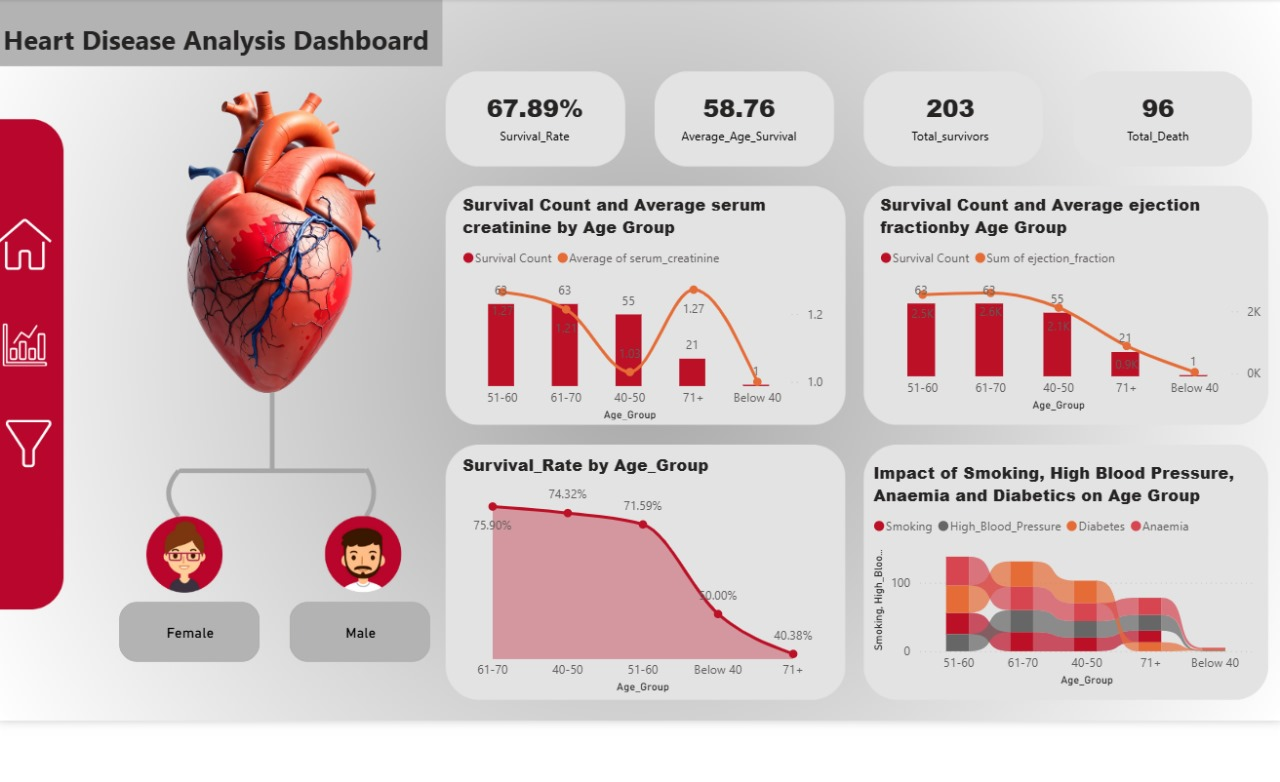

The page's visual inventory and layout, read from the dashboard file:
{"tool":"powerbi","page":{"name":"Page 1","canvas":[1280,720],"ordinal":0},"visuals":[{"type":"textbox","box":[0,0,442.6,67.1],"z":0},{"type":"card","fields":{"Values":["heart_Disease_clinical_records_.Survival_Rate"]},"box":[458.1,74.9,153.7,84.6],"z":1},{"type":"card","fields":{"Values":["heart_Disease_clinical_records_.Average_Age_Survival"]},"box":[649.7,67.1,178,100.2],"z":2},{"type":"card","fields":{"Values":["heart_Disease_clinical_records_.Total_survivors"]},"box":[856.9,67.1,184.8,100.2],"z":3},{"type":"card","fields":{"Values":["heart_Disease_clinical_records_.Total_Death"]},"box":[1041.7,74.9,229.5,84.6],"z":4},{"type":"lineClusteredColumnComboChart","title":"Survival Count and Average serum creatinine by Age Group","fields":{"Category":["heart_Disease_clinical_records_.Age_Group"],"Y":["CountNonNull(heart_Disease_clinical_records_.DEATH_EVENT)"],"Y2":["Avg(heart_Disease_clinical_records_.serum_creatinine)"]},"box":[458.1,192.6,369.6,232.5],"z":5},{"type":"lineClusteredColumnComboChart","title":"Survival Count and Average ejection fractionby Age Group","fields":{"Category":["heart_Disease_clinical_records_.Age_Group"],"Y":["CountNonNull(heart_Disease_clinical_records_.DEATH_EVENT)"],"Y2":["Sum(heart_Disease_clinical_records_.ejection_fraction)"]},"box":[874.4,192.6,390,222.7],"z":6},{"type":"lineChart","fields":{"Category":["heart_Disease_clinical_records_.Age_Group"],"Y":["heart_Disease_clinical_records_.Survival_Rate"]},"box":[458.1,452.3,369.6,244.1],"z":7},{"type":"ribbonChart","title":"Impact of Smoking, High Blood Pressure, Anaemia and Diabetics on Age Group","fields":{"Category":["heart_Disease_clinical_records_.Age_Group"],"Y":["Sum(heart_Disease_clinical_records_.smoking)","Sum(heart_Disease_clinical_records_.high_blood_pressure)","Sum(heart_Disease_clinical_records_.diabetes)","Sum(heart_Disease_clinical_records_.anaemia)"]},"box":[867.6,460.1,389.1,229.5],"z":8},{"type":"advancedSlicerVisual","fields":{"Values":["heart_Disease_clinical_records_.Gender"]},"box":[115.7,596.2,320,70],"z":9}]}

Visuals, with their boxes on the page's 1280x720 design canvas (x1, y1, x2, y2). These are canvas units, not pixel positions in the 1280x782 screenshot, which may show the page scaled, cropped or inside an application window:
textbox: rect(0, 0, 443, 67)
card - heart_Disease_clinical_records_.Survival_Rate: rect(458, 75, 612, 160)
card - heart_Disease_clinical_records_.Average_Age_Survival: rect(650, 67, 828, 167)
card - heart_Disease_clinical_records_.Total_survivors: rect(857, 67, 1042, 167)
card - heart_Disease_clinical_records_.Total_Death: rect(1042, 75, 1271, 160)
"Survival Count and Average serum creatinine by Age Group" lineClusteredColumnComboChart: rect(458, 193, 828, 425)
"Survival Count and Average ejection fractionby Age Group" lineClusteredColumnComboChart: rect(874, 193, 1264, 415)
lineChart - heart_Disease_clinical_records_.Age_Group x heart_Disease_clinical_records_.Survival_Rate: rect(458, 452, 828, 696)
"Impact of Smoking, High Blood Pressure, Anaemia and Diabetics on Age Group" ribbonChart: rect(868, 460, 1257, 690)
advancedSlicerVisual - heart_Disease_clinical_records_.Gender: rect(116, 596, 436, 666)
